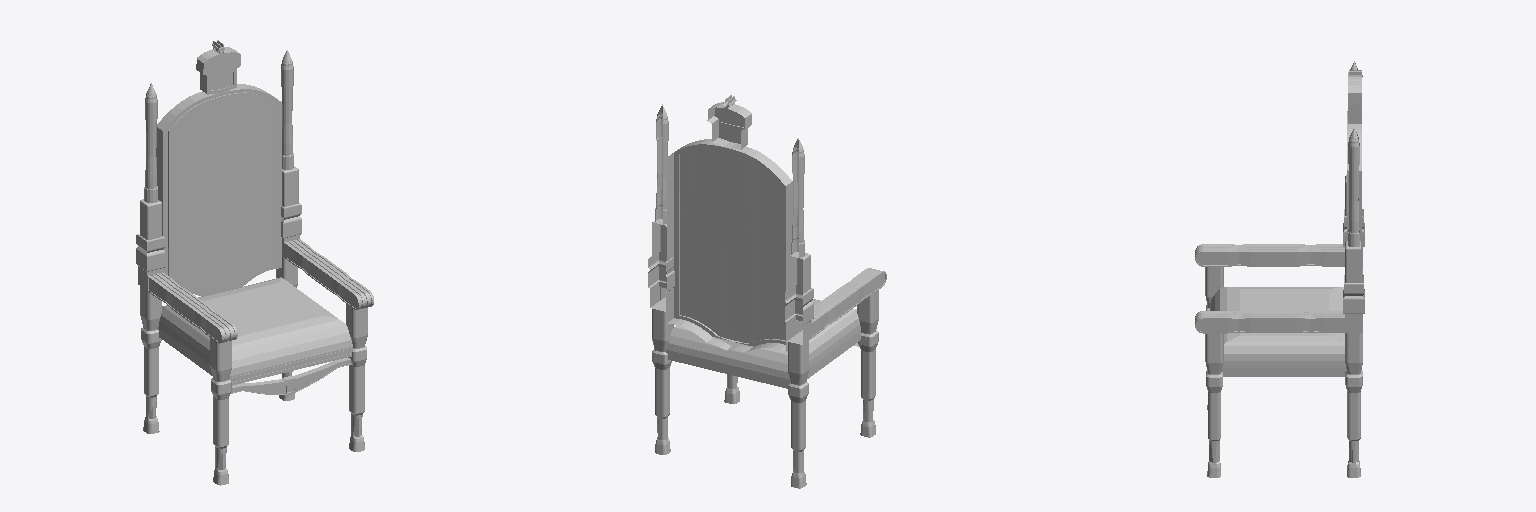
The model's file is Throne.obj.
3 renders of one model, left to right at view 1: azimuth 30°, elevation 25°; view 2: azimuth 150°, elevation 25°; view 3: azimuth 270°, elevation 25°, orthographic.
Parts seen in each view (by area): view 1: pCube13; view 2: pCube13; view 3: pCube13.
Part boxes in pixels (x1,y1,x2,y2): pCube13: (136,40,373,485); pCube13: (648,95,886,488); pCube13: (1195,61,1364,477).
Size of the model in its own units: 25.53 by 58.25 by 24.13.